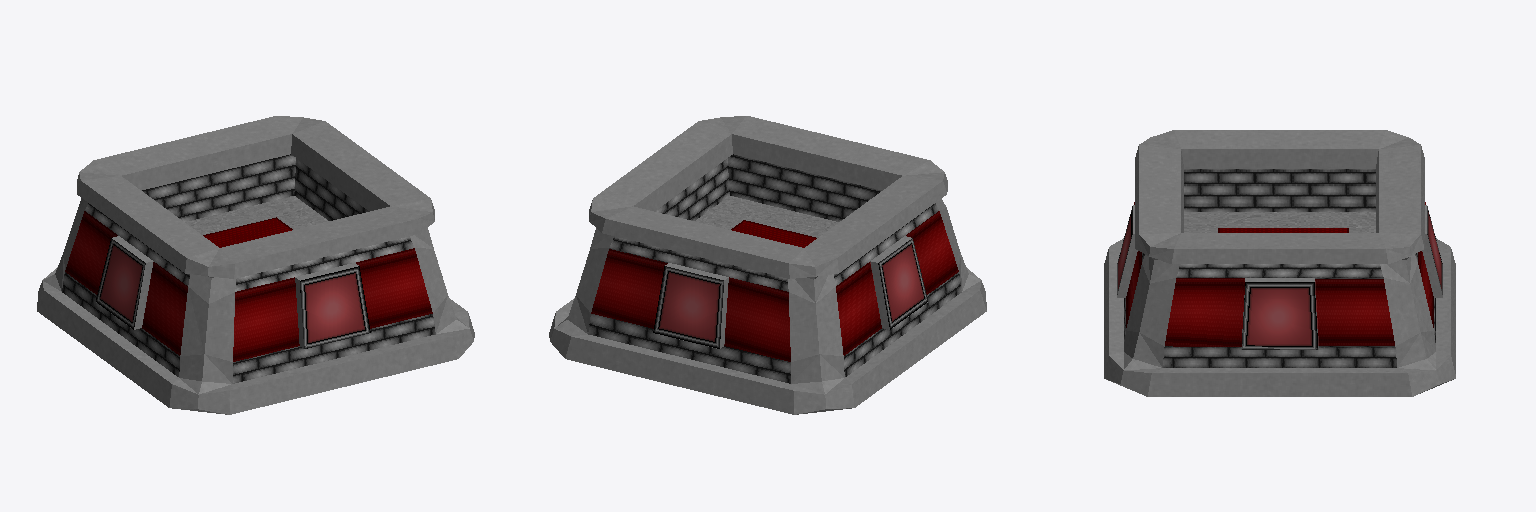
The picture shows the model from 3 angles: view 1: azimuth 30°, elevation 25°; view 2: azimuth 150°, elevation 25°; view 3: azimuth 270°, elevation 25°; orthographic projection.
Visible parts, largest first — view 1: Tower_Base_Cube; view 2: Tower_Base_Cube; view 3: Tower_Base_Cube.
Boxes of the visible parts, <box> form: Tower_Base_Cube: <box>37,116,474,414</box>; Tower_Base_Cube: <box>549,116,986,414</box>; Tower_Base_Cube: <box>1104,130,1455,396</box>.
Size of the model in its own units: 1.94 by 0.8064 by 1.94.
1 materials, 1 textured.